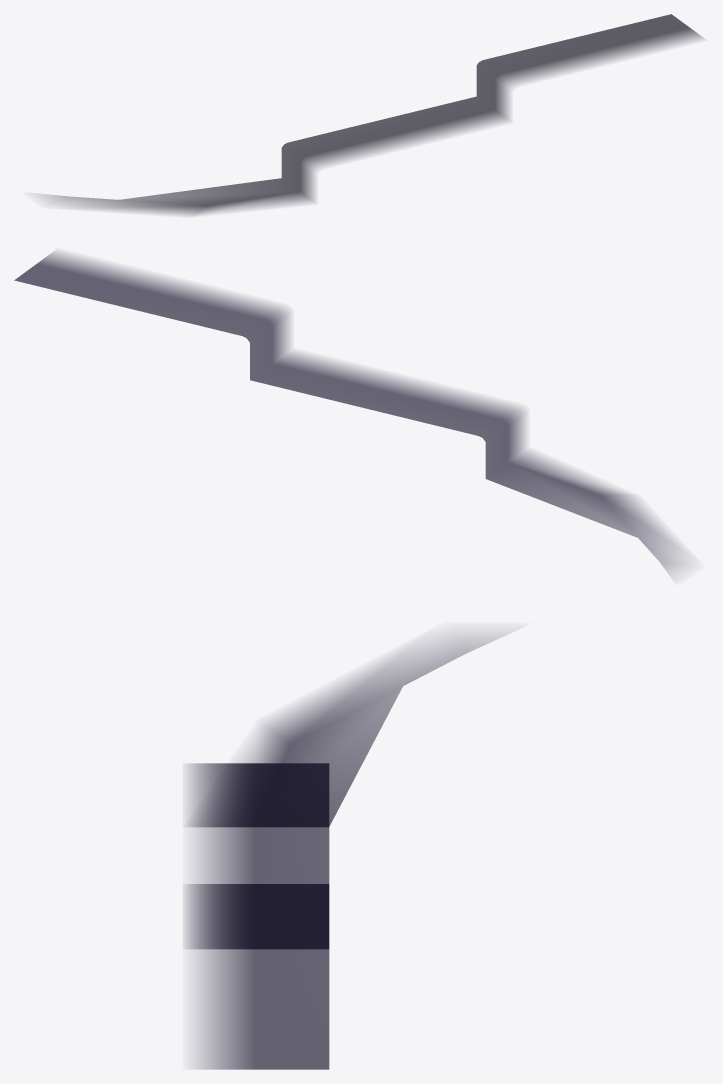
The picture shows the model from 3 angles, top to bottom: view 1: azimuth 30°, elevation 25°; view 2: azimuth 150°, elevation 25°; view 3: azimuth 270°, elevation 25°; orthographic projection. The views are drawn at different scales.
Parts seen in each view (by area): view 1: Joint_0_Object_0; view 2: Joint_0_Object_0; view 3: Joint_0_Object_0.
Boxes of the visible parts, x1=… form: Joint_0_Object_0: x1=42, y1=14, x2=703, y2=215; Joint_0_Object_0: x1=14, y1=251, x2=684, y2=575; Joint_0_Object_0: x1=185, y1=635, x2=504, y2=1069.
Size of the model in its own units: 1856 by 202 by 486.
1 material, 1 textured.
